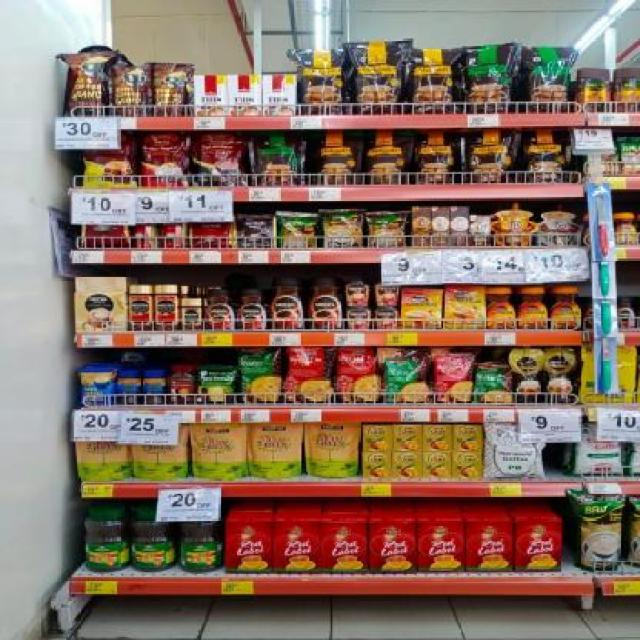Coffee: (270, 276, 306, 329), (308, 276, 342, 330), (399, 288, 441, 328), (445, 287, 484, 328), (550, 286, 581, 331), (517, 287, 548, 328), (236, 288, 266, 330), (487, 288, 516, 330), (206, 288, 234, 330), (612, 212, 636, 245), (181, 298, 201, 330), (615, 298, 636, 328)
